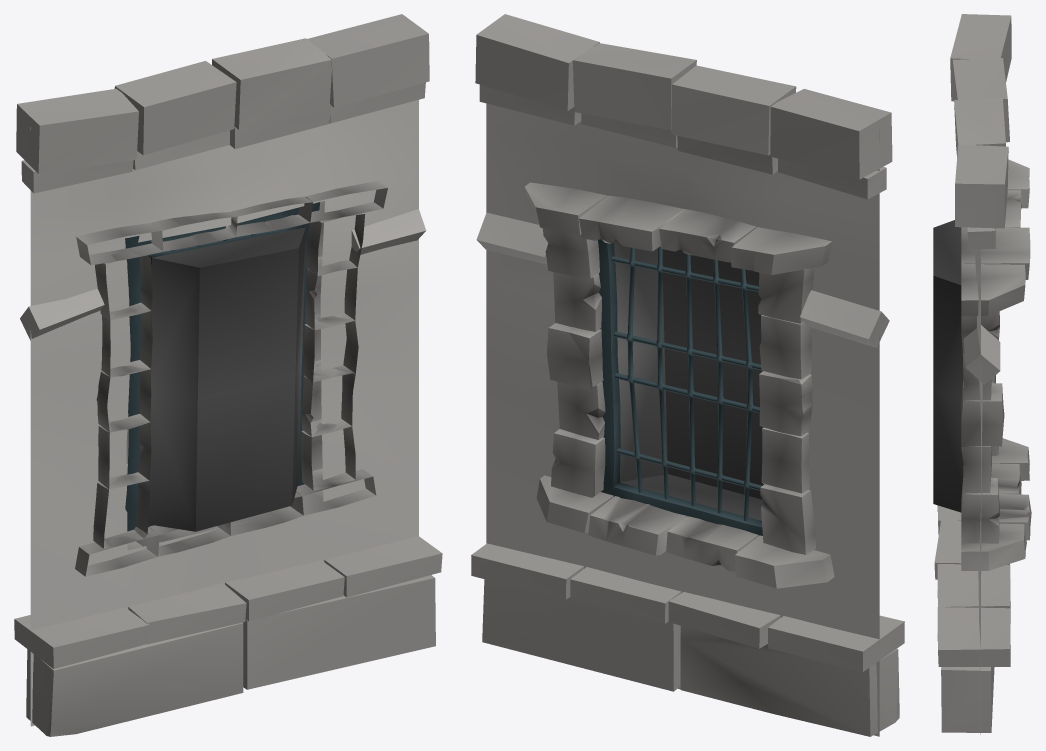
The model's file is wall_window_B_LOW.FBX.
3 renders of one model, left to right at view 1: azimuth 30°, elevation 25°; view 2: azimuth 150°, elevation 25°; view 3: azimuth 270°, elevation 25°, orthographic. The views are drawn at different scales.
Visible parts, largest first — view 1: wall_window_B_LOW; view 2: wall_window_B_LOW; view 3: wall_window_B_LOW.
Part boxes in pixels (bbox=[...]): wall_window_B_LOW: bbox=[14, 14, 442, 736]; wall_window_B_LOW: bbox=[471, 14, 904, 736]; wall_window_B_LOW: bbox=[933, 14, 1031, 734].
Size of the model in its own units: 4.02 by 6.02 by 0.9691.
